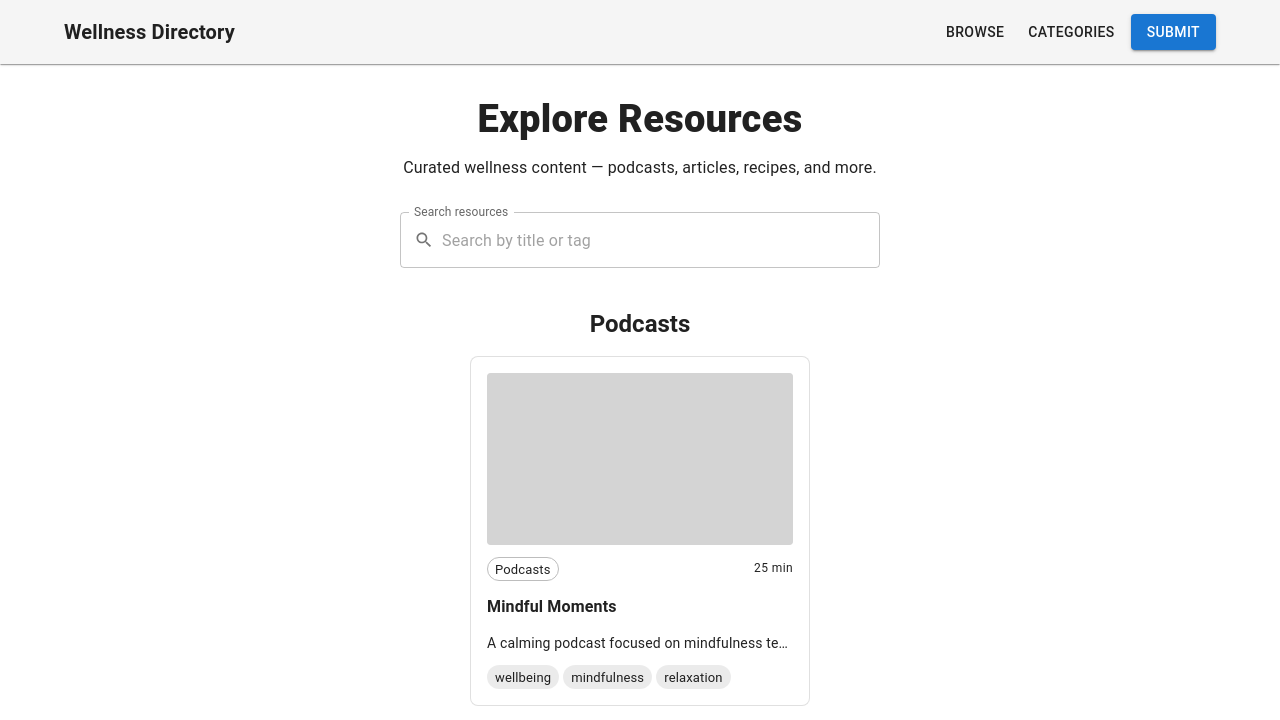
Test: App — resource filtering › shows an empty state when nothing matches
Type "zzzzz" into the field labelled "Search resources" at (661, 240), box [442,212,880,268]
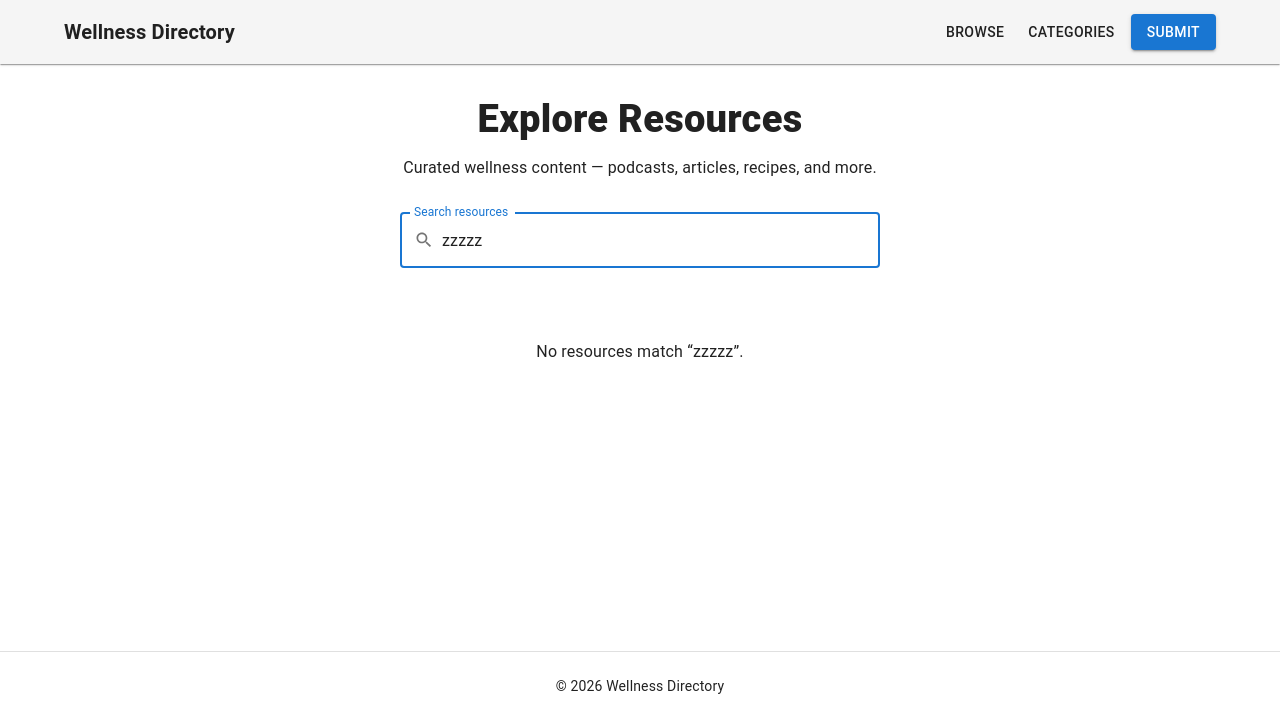
Now the text "No resources match “zzzzz”." is shown, box [536,342,744,361]
